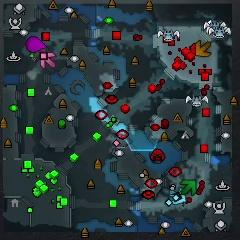p3: (26, 35, 47, 54)
x1: (39, 50, 57, 69)
x3: (172, 194, 187, 204)
x4: (181, 179, 196, 196)
x5: (196, 41, 212, 57)
